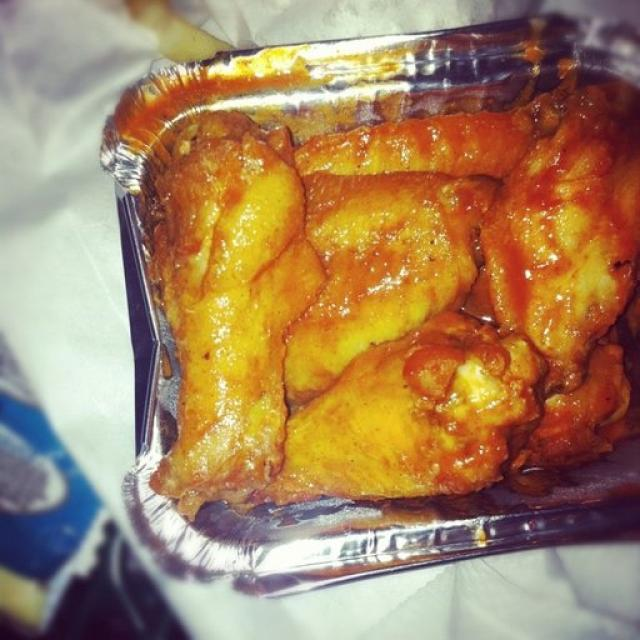Frango: (154, 137, 315, 522), (188, 319, 534, 493)
